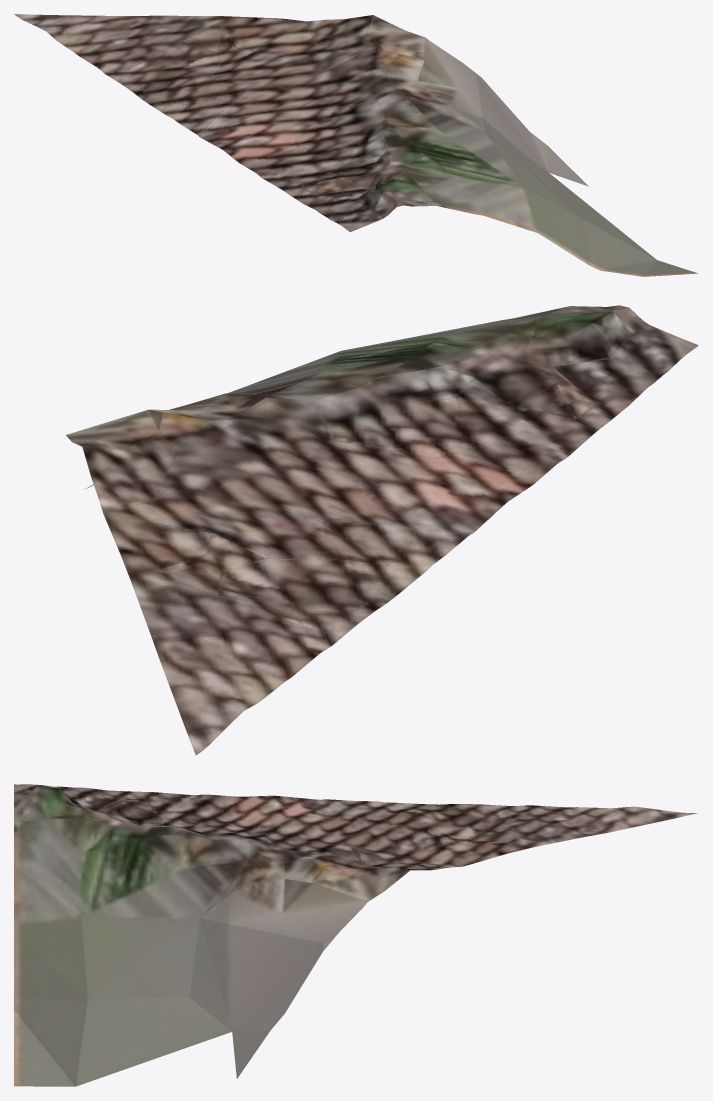
3 views of the same model, one above another, from view 1: azimuth 30°, elevation 25°; view 2: azimuth 150°, elevation 25°; view 3: azimuth 270°, elevation 25° (orthographic). The views are drawn at different scales.
Bounding box in the file's own units: 3.29 × 1.39 × 5.5.
1 material, 1 textured.
